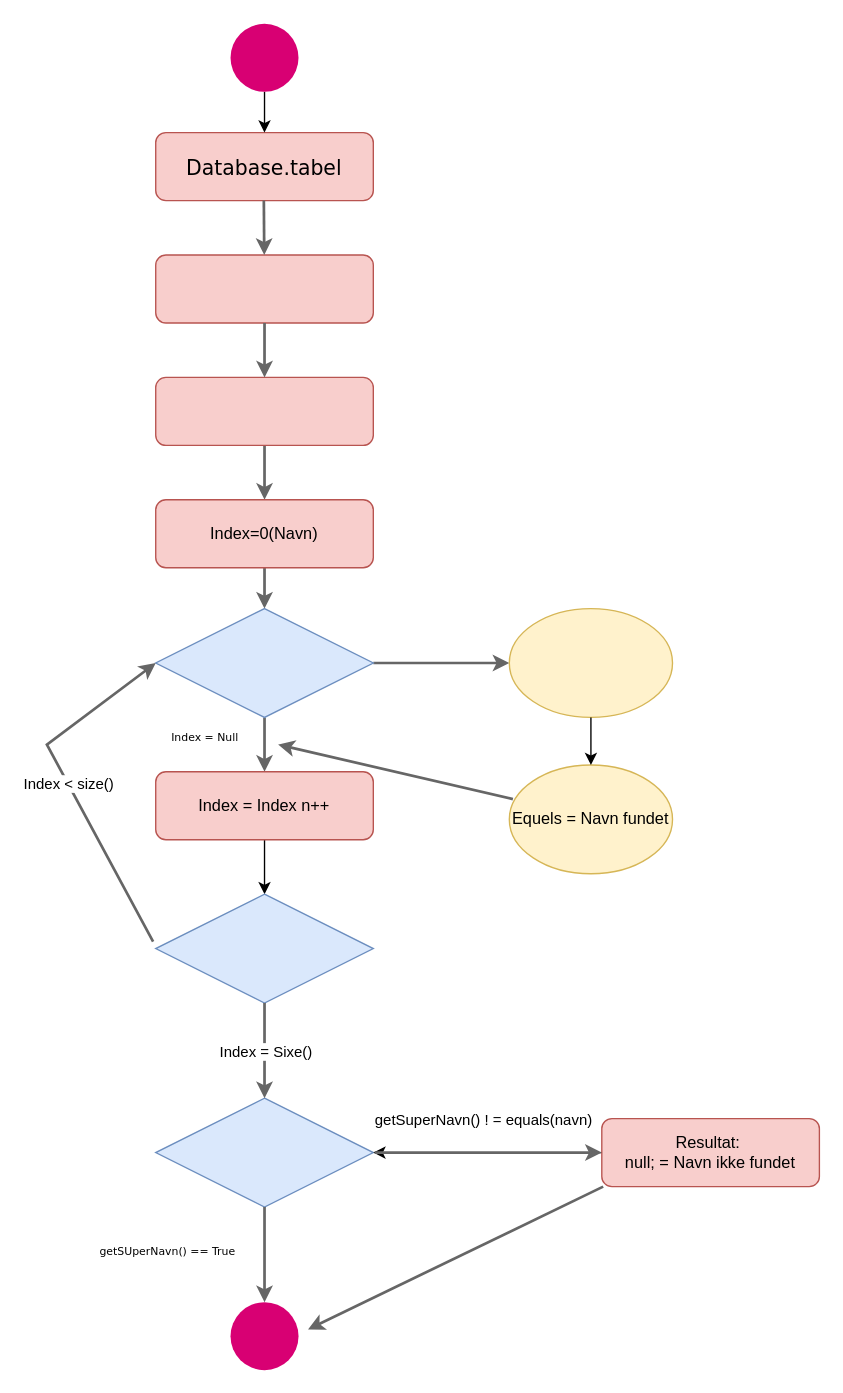
Some shapes in this 843 by 1393 pixel diagram are drawn without their labels. Here are the shapes that lost their labels. From the top down, the box of each, then its label:
(154, 254, 373, 323): ArrayList
(154, 376, 373, 445): Metode(SøgSuperHero)
(508, 607, 673, 717): Resultatet
